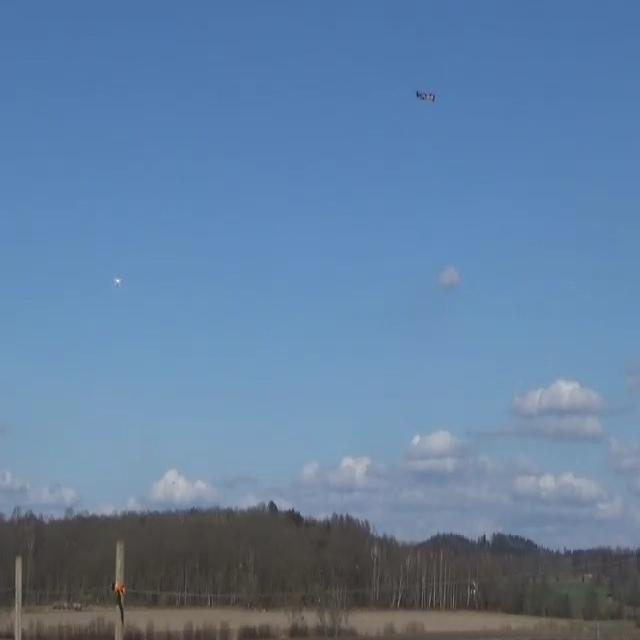drone: (415, 89, 435, 101), (114, 278, 123, 288)
